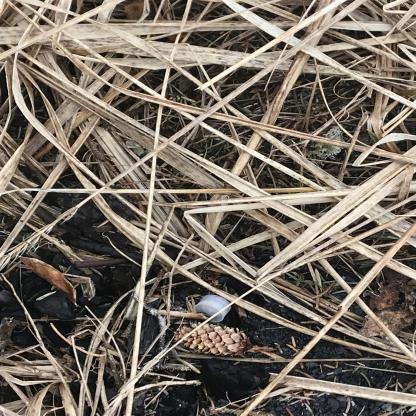Plastic bottle cap: (194, 295, 232, 322)
